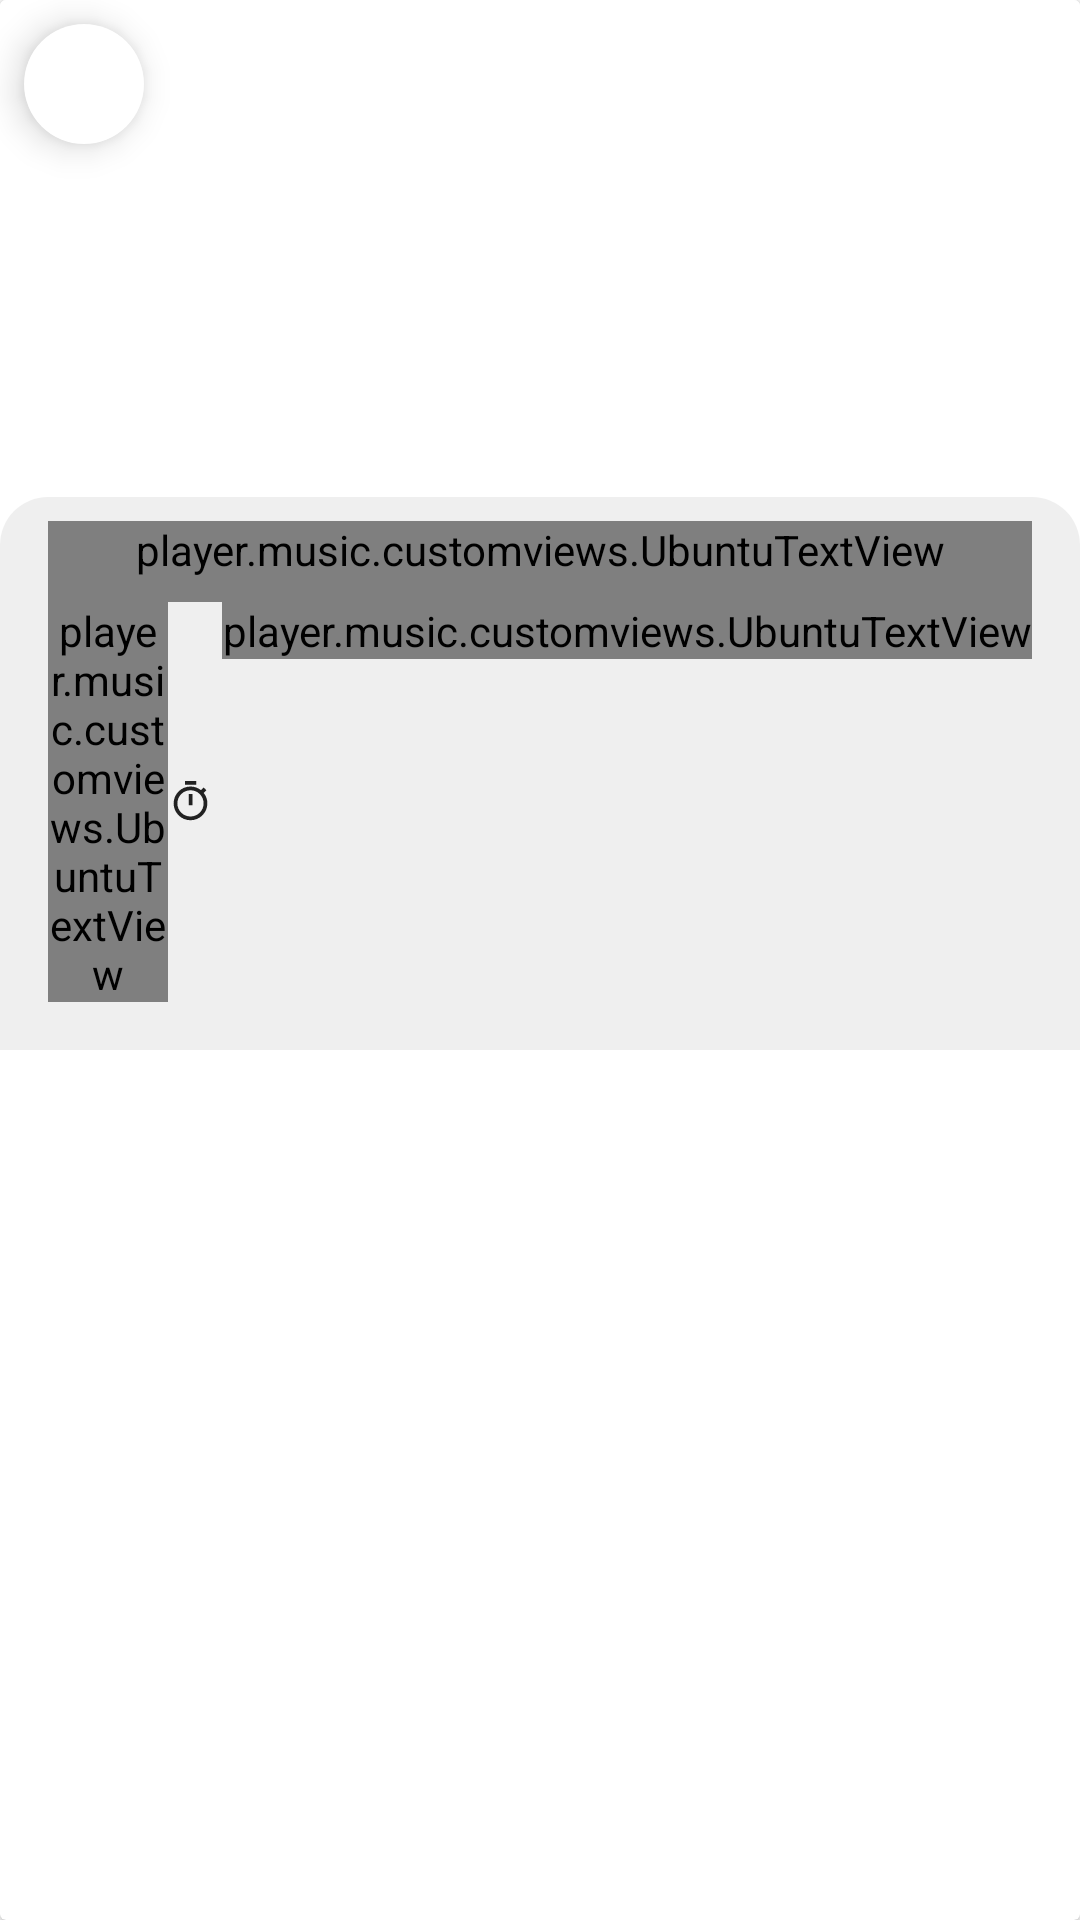

Icons on this 1080*1920 Android screen, each with the point to tap as point (x, y):
Album Duration: point (190, 801)
